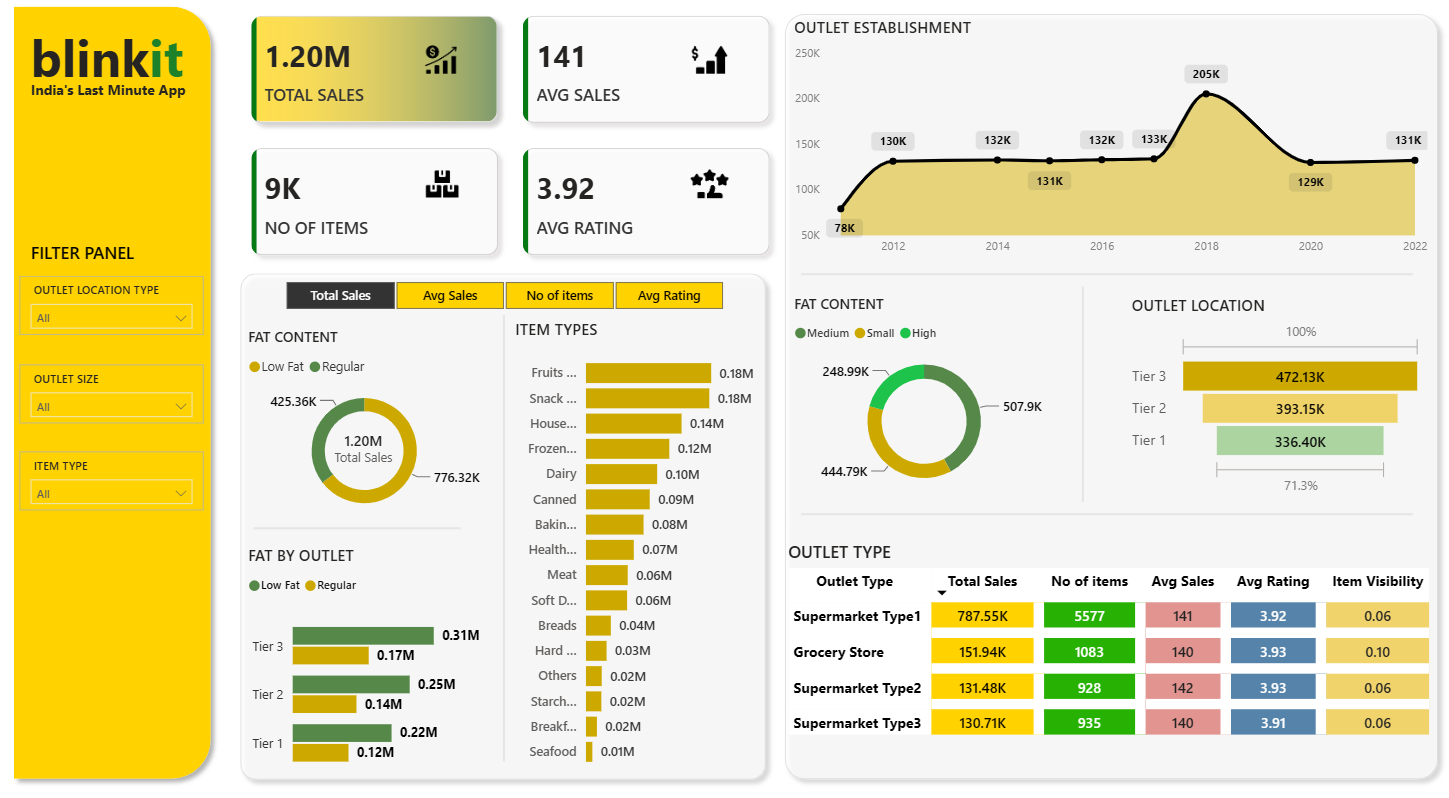

What the dashboard file says about the page in this screenshot:
{"tool":"powerbi","page":{"name":"Page 1","canvas":[1400,800],"ordinal":0},"visuals":[{"type":"shape","box":[9.9,23.2,205.4,753.6],"z":0},{"type":"textbox","box":[29.8,41.4,164,74.5],"z":1000},{"type":"textbox","box":[29.8,96.1,195.4,39.7],"z":2000},{"type":"cardVisual","fields":{"Data":["BlinkIT Grocery Data.Total Sales","BlinkIT Grocery Data.Avg Sales","BlinkIT Grocery Data.No of items","BlinkIT Grocery Data.Avg Rating"]},"box":[215.3,11.6,553.2,286.5],"z":3000},{"type":"image","box":[407.5,69,37,27],"z":4000},{"type":"image","box":[662.5,68.6,37,27],"z":5000},{"type":"image","box":[662.5,186.6,37,27],"z":6000},{"type":"image","box":[408,186.6,36.4,26.5],"z":7000},{"type":"shape","box":[225.2,276.6,518.4,500.2],"z":8000},{"type":"donutChart","title":"FAT CONTENT","fields":{"Y":["BlinkIT Grocery Data.Total Sales"],"Category":["BlinkIT Grocery Data.Item Fat Content"]},"box":[236.8,337.9,230.2,188.8],"z":9000},{"type":"slicer","fields":{"Values":["Matrix.Matrix"]},"box":[253.4,287,465.4,39.7],"z":10000},{"type":"cardVisual","fields":{"Data":["BlinkIT Grocery Data.Total Sales"]},"box":[274.9,400.8,155.7,102.7],"z":11000},{"type":"clusteredBarChart","title":"FAT BY OUTLET","fields":{"Y":["BlinkIT Grocery Data.Total Sales"],"Category":["BlinkIT Grocery Data.Outlet Location Type"],"Series":["BlinkIT Grocery Data.Item Fat Content"]},"box":[236.8,544.9,230.2,231.9],"z":12000},{"type":"shape","box":[246.8,511.8,197.1,34.8],"z":13000},{"type":"shape","box":[402.4,326.3,165.6,425.6],"z":14000},{"type":"barChart","title":"ITEM TYPES","fields":{"Y":["BlinkIT Grocery Data.Total Sales"],"Category":["BlinkIT Grocery Data.Item Type"]},"box":[491.9,327.9,237,437.2],"z":15000},{"type":"shape","box":[743.6,29.8,640,746.9],"z":16000},{"type":"lineChart","title":"OUTLET ESTABLISHMENT","fields":{"Category":["BlinkIT Grocery Data.Outlet Establishment Year"],"Y":["BlinkIT Grocery Data.Total Sales"]},"box":[756.9,41.4,612.8,235.2],"z":17000},{"type":"donutChart","title":"FAT CONTENT","fields":{"Y":["BlinkIT Grocery Data.Total Sales"],"Category":["BlinkIT Grocery Data.Outlet Size"]},"box":[756.9,306.4,256.7,197.1],"z":18000},{"type":"funnel","title":"OUTLET LOCATION","fields":{"Y":["Sum(BlinkIT Grocery Data.Sales)"],"Category":["BlinkIT Grocery Data.Outlet Location Type"]},"box":[1078.2,306.4,286.5,197.1],"z":19000},{"type":"pivotTable","title":"OUTLET TYPE","fields":{"Rows":["BlinkIT Grocery Data.Outlet Type"],"Values":["BlinkIT Grocery Data.Total Sales","BlinkIT Grocery Data.No of items","BlinkIT Grocery Data.Avg Sales","BlinkIT Grocery Data.Avg Rating","Avg(BlinkIT Grocery Data.Item Visibility)"]},"box":[752,539.9,626,225.2],"z":20000},{"type":"shape","box":[768.5,491.9,583,48],"z":21000},{"type":"shape","box":[953.9,298.1,165.6,205.4],"z":22000},{"type":"shape","box":[768.5,263.3,583,48],"z":23000},{"type":"slicer","fields":{"Values":["BlinkIT Grocery Data.Outlet Location Type"]},"box":[24.8,288.2,175.6,56.3],"z":24000},{"type":"slicer","fields":{"Values":["BlinkIT Grocery Data.Outlet Size"]},"box":[24.8,372.6,175.6,56.3],"z":25000},{"type":"slicer","fields":{"Values":["BlinkIT Grocery Data.Item Type"]},"box":[24.8,455.4,175.6,56.3],"z":26000},{"type":"textbox","box":[29.8,250.1,135.8,36.4],"z":27000}]}

Visuals, with their boxes on the page's 1400x800 design canvas (x1, y1, x2, y2). These are canvas units, not pixel positions in the 1449x798 screenshot, which may show the page scaled, cropped or inside an application window:
shape: x1=10, y1=23, x2=215, y2=777
textbox: x1=30, y1=41, x2=194, y2=116
textbox: x1=30, y1=96, x2=225, y2=136
cardVisual - BlinkIT Grocery Data.Total Sales x BlinkIT Grocery Data.Avg Sales: x1=215, y1=12, x2=768, y2=298
image: x1=408, y1=69, x2=444, y2=96
image: x1=662, y1=69, x2=700, y2=96
image: x1=662, y1=187, x2=700, y2=214
image: x1=408, y1=187, x2=444, y2=213
shape: x1=225, y1=277, x2=744, y2=777
"FAT CONTENT" donutChart: x1=237, y1=338, x2=467, y2=527
slicer - Matrix.Matrix: x1=253, y1=287, x2=719, y2=327
cardVisual - BlinkIT Grocery Data.Total Sales: x1=275, y1=401, x2=431, y2=504
"FAT BY OUTLET" clusteredBarChart: x1=237, y1=545, x2=467, y2=777
shape: x1=247, y1=512, x2=444, y2=547
shape: x1=402, y1=326, x2=568, y2=752
"ITEM TYPES" barChart: x1=492, y1=328, x2=729, y2=765
shape: x1=744, y1=30, x2=1384, y2=777
"OUTLET ESTABLISHMENT" lineChart: x1=757, y1=41, x2=1370, y2=277
"FAT CONTENT" donutChart: x1=757, y1=306, x2=1014, y2=504
"OUTLET LOCATION" funnel: x1=1078, y1=306, x2=1365, y2=504
"OUTLET TYPE" pivotTable: x1=752, y1=540, x2=1378, y2=765
shape: x1=768, y1=492, x2=1352, y2=540
shape: x1=954, y1=298, x2=1120, y2=504
shape: x1=768, y1=263, x2=1352, y2=311
slicer - BlinkIT Grocery Data.Outlet Location Type: x1=25, y1=288, x2=200, y2=344
slicer - BlinkIT Grocery Data.Outlet Size: x1=25, y1=373, x2=200, y2=429
slicer - BlinkIT Grocery Data.Item Type: x1=25, y1=455, x2=200, y2=512
textbox: x1=30, y1=250, x2=166, y2=286
